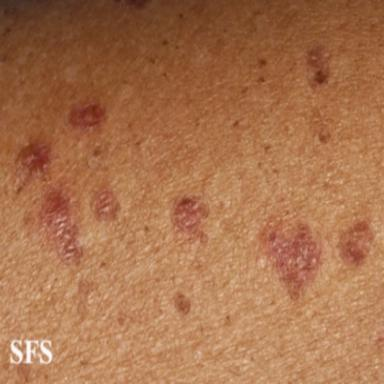Porokeratosis: (262, 221, 321, 299), (41, 189, 83, 265), (171, 193, 209, 243), (337, 220, 374, 266), (14, 142, 52, 186), (66, 101, 106, 132), (307, 45, 329, 89), (91, 189, 120, 221), (86, 143, 108, 170), (319, 128, 331, 144)
